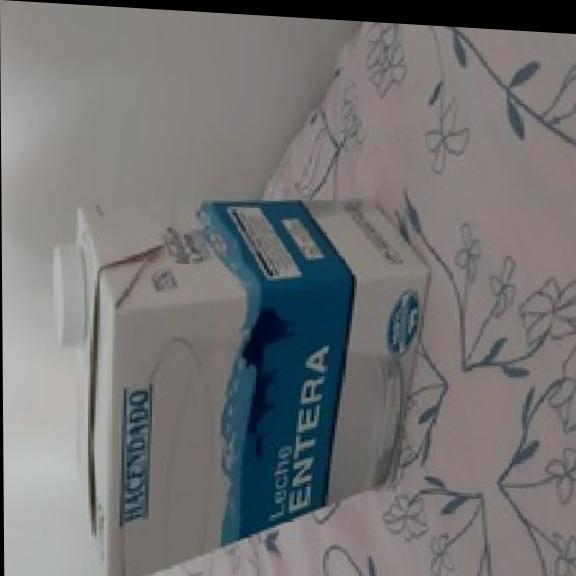Kertas: (79, 202, 426, 576)
